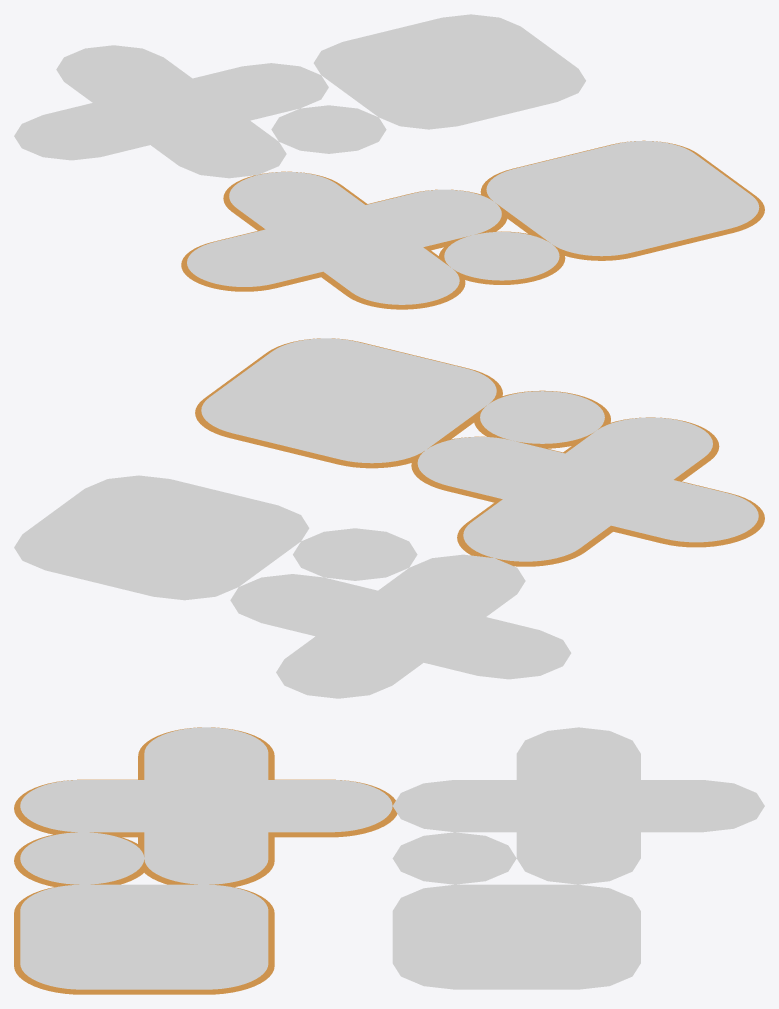
The model's file is clouds_simplified.fbx.
The picture shows the model from 3 angles, top to bottom: view 1: azimuth 30°, elevation 25°; view 2: azimuth 150°, elevation 25°; view 3: azimuth 270°, elevation 25°; orthographic projection. The views are drawn at different scales.
Visible parts, largest first — view 1: CornerTR, CornerTL, DemiT, DemiR, Central, CornerBR, Central_ph, DemiB, CornerBL, DemiL, CornerTR_ph, CornerBL_ph (+8 smaller); view 2: CornerBR, CornerBL, DemiR, DemiB, Central, Central_ph, CornerTR, DemiL, CornerTL, DemiT, CornerTL_ph, CornerBR_ph (+8 smaller); view 3: CornerTL, CornerBL, DemiB, Central, DemiL, CornerBR, CornerTR, Central_ph, DemiT, DemiR, CornerBR_ph, CornerTR_ph (+8 smaller).
Boxes of the visible parts, x1,y1,x2,y2 form: CornerTR: [515, 198, 682, 260]; CornerTL: [623, 173, 764, 245]; DemiT: [318, 247, 465, 309]; DemiR: [181, 229, 327, 291]; Central: [258, 204, 430, 277]; CornerBR: [480, 155, 622, 227]; Central_ph: [93, 78, 249, 144]; DemiB: [223, 171, 367, 230]; CornerBL: [561, 140, 728, 198]; DemiL: [366, 189, 507, 250]; CornerTR_ph: [350, 72, 507, 129]; CornerBL_ph: [392, 14, 549, 71]; CornerBR: [279, 401, 464, 468]; CornerBL: [195, 374, 348, 452]; DemiR: [607, 480, 764, 547]; DemiB: [457, 499, 618, 566]; Central: [496, 453, 672, 530]; Central_ph: [316, 590, 485, 662]; CornerTR: [349, 354, 502, 432]; DemiL: [411, 436, 564, 502]; CornerTL: [234, 338, 419, 400]; DemiT: [563, 417, 719, 481]; CornerTL_ph: [54, 475, 223, 537]; CornerBR_ph: [99, 538, 269, 600]; CornerTL: [14, 937, 150, 994]; CornerBL: [138, 937, 274, 994]; DemiB: [268, 779, 397, 837]; Central: [138, 779, 274, 837]; DemiL: [138, 832, 274, 887]; CornerBR: [144, 884, 274, 941]; CornerTR: [14, 884, 144, 941]; Central_ph: [516, 780, 640, 832]; DemiT: [14, 779, 144, 837]; DemiR: [138, 727, 274, 779]; CornerBR_ph: [516, 884, 640, 937]; CornerTR_ph: [392, 884, 516, 937].
Size of the model in its own units: 1020 by 4.4 by 1210.
